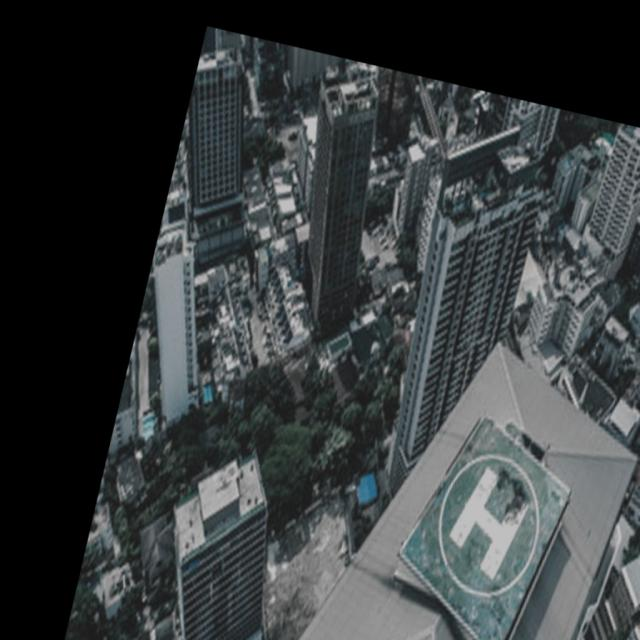helipad: (434, 450, 540, 598)
